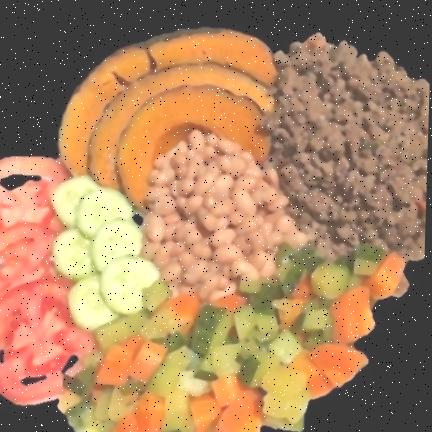beans: (141, 131, 302, 299)
carrot: (290, 254, 403, 397)
cucumber: (51, 177, 159, 330)
green_vegetables: (59, 246, 384, 431)
meat: (264, 34, 429, 260)
